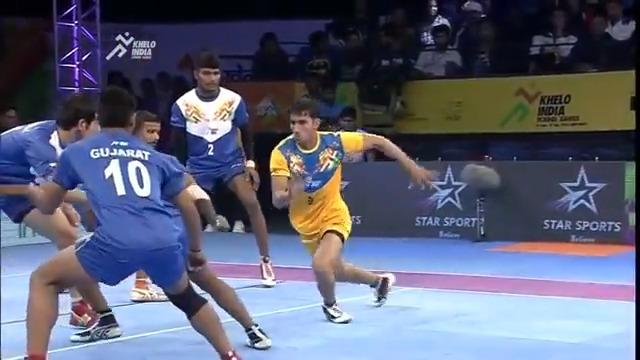Player: (21, 85, 242, 358), (163, 50, 276, 287), (0, 91, 103, 330)
Raider: (268, 97, 433, 324)
